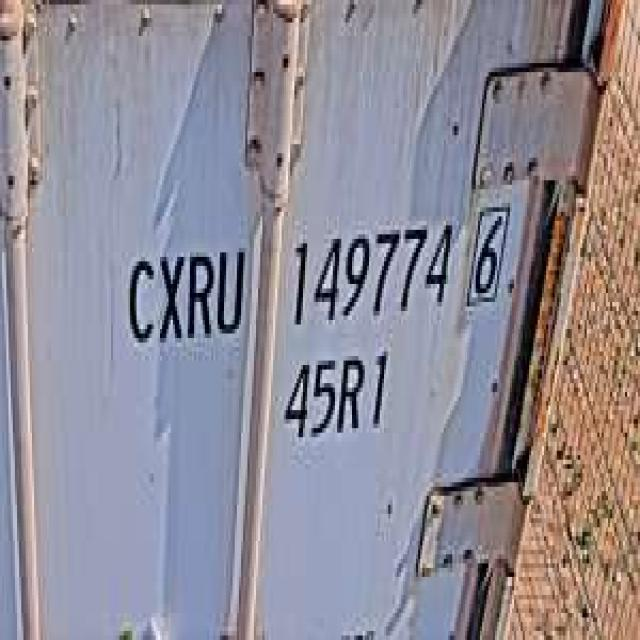dv: (465, 189, 510, 311)
owner: (120, 230, 248, 356)
serial: (282, 208, 456, 334)
size: (277, 338, 395, 446)
